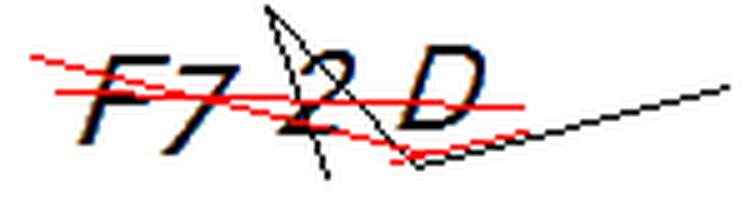2: (269, 46, 371, 144)
7: (156, 59, 246, 162)
D: (391, 39, 497, 134)
F: (69, 48, 175, 149)
